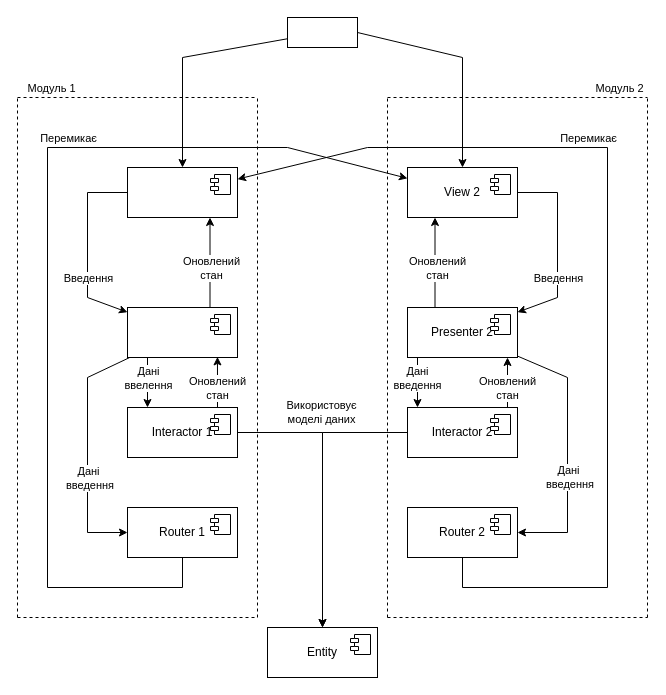
The diagram is 666 pixels wide and 695 high, and some of its shapes have lost their labels. The shapes that lost their labels are listed below. From the top down, each one's box as (x1, y1, x2, y2) in pixels, then its label:
(286, 16, 358, 48): Client
(126, 166, 238, 218): View 1
(126, 306, 238, 358): Presenter 1
